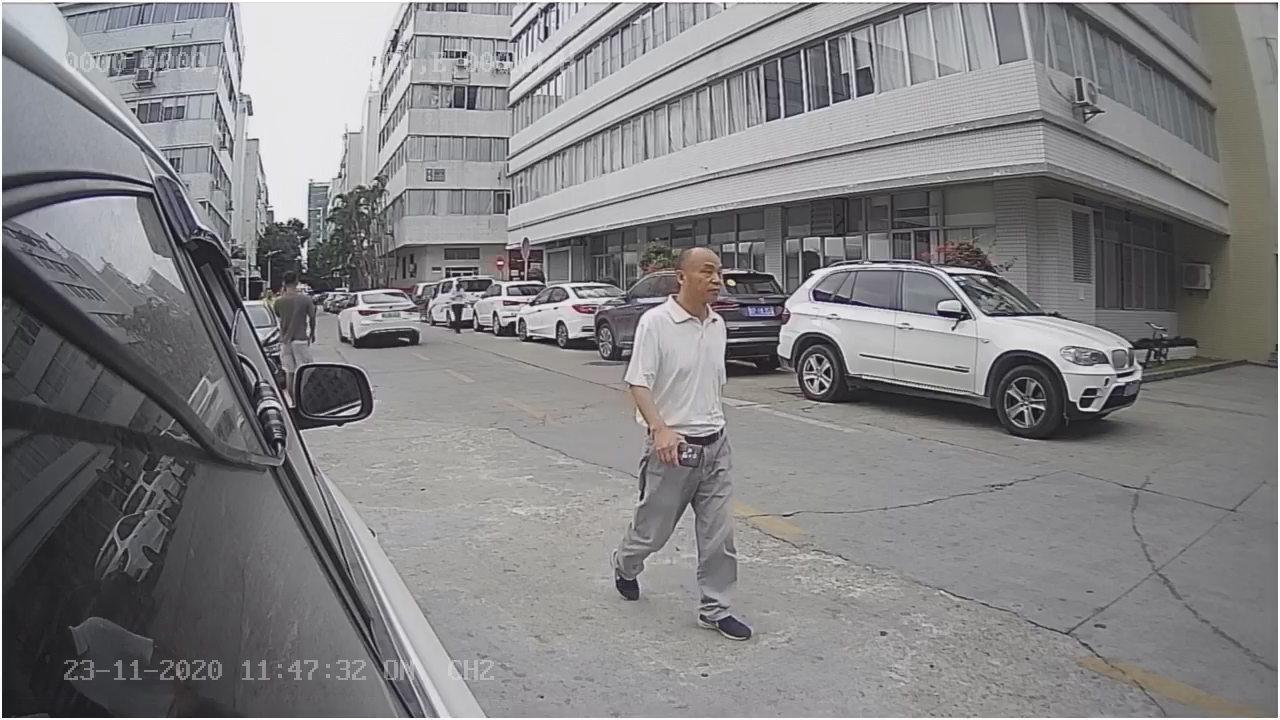person: (607, 229, 757, 636)
